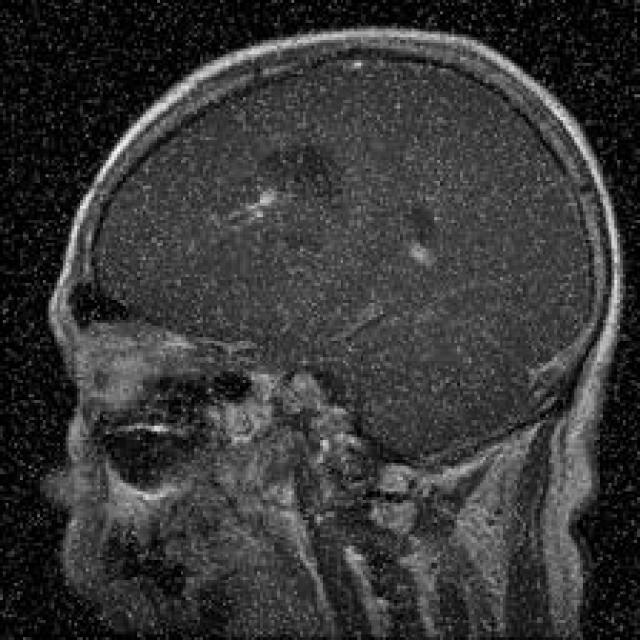glioma_tumor: (210, 130, 451, 297)
